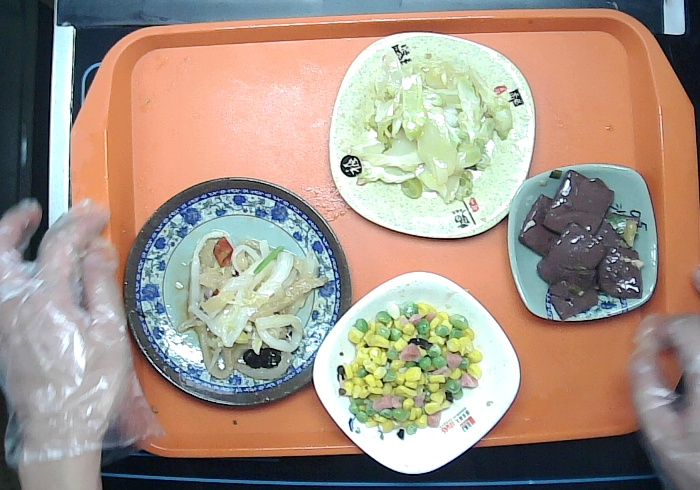NLDX-Bai_Se_Xiao_Fang_Die: (308, 268, 522, 479)
NLDX-Fu_Zi_Fang_Die: (320, 25, 540, 242)
NLDX-Qing_Hua_Xiao_Fang_Die: (493, 157, 667, 331)
NLDX-Qing_Hua_Yuan_Die: (120, 170, 356, 410)
